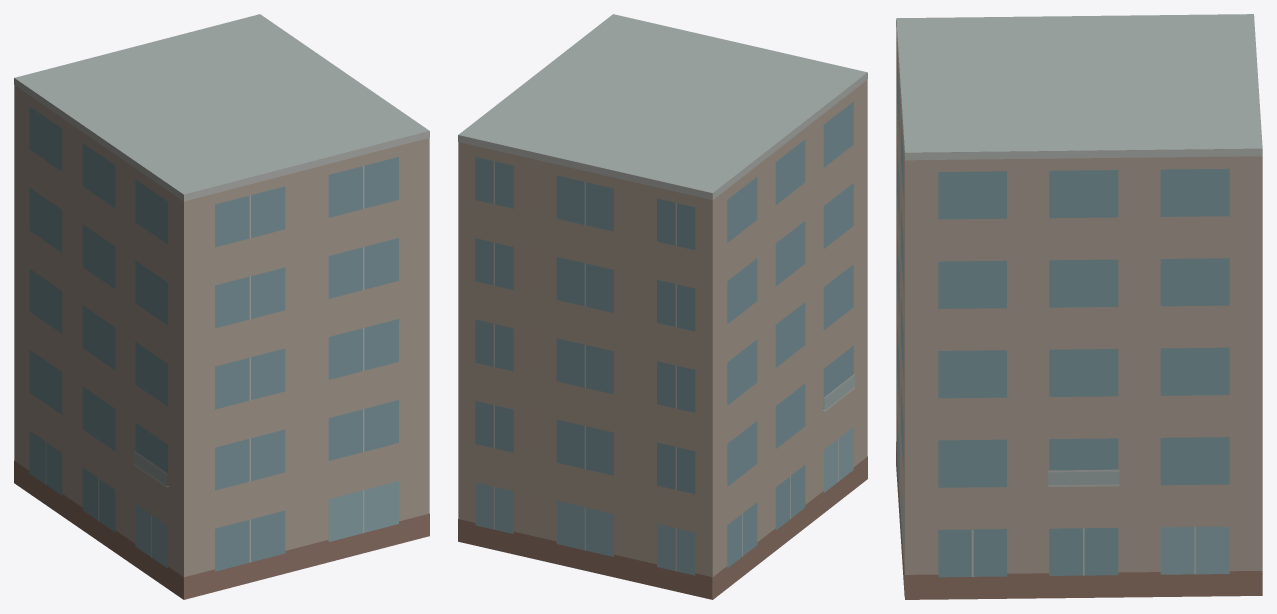
File: survey-upis-32614971.glb
3 renders of one model, left to right at view 1: azimuth 30°, elevation 25°; view 2: azimuth 150°, elevation 25°; view 3: azimuth 270°, elevation 25°, orthographic. The views are drawn at different scales.
Parts seen in each view (by area): view 1: survey-upis-32614971.tmp; view 2: survey-upis-32614971.tmp; view 3: survey-upis-32614971.tmp.
Boxes of the visible parts, x1,y1,x2,y2 form: survey-upis-32614971.tmp: (14,14,429,599); survey-upis-32614971.tmp: (458,14,867,599); survey-upis-32614971.tmp: (896,14,1262,599).
Size of the model in its own units: 9.52 by 14.3 by 10.63.
